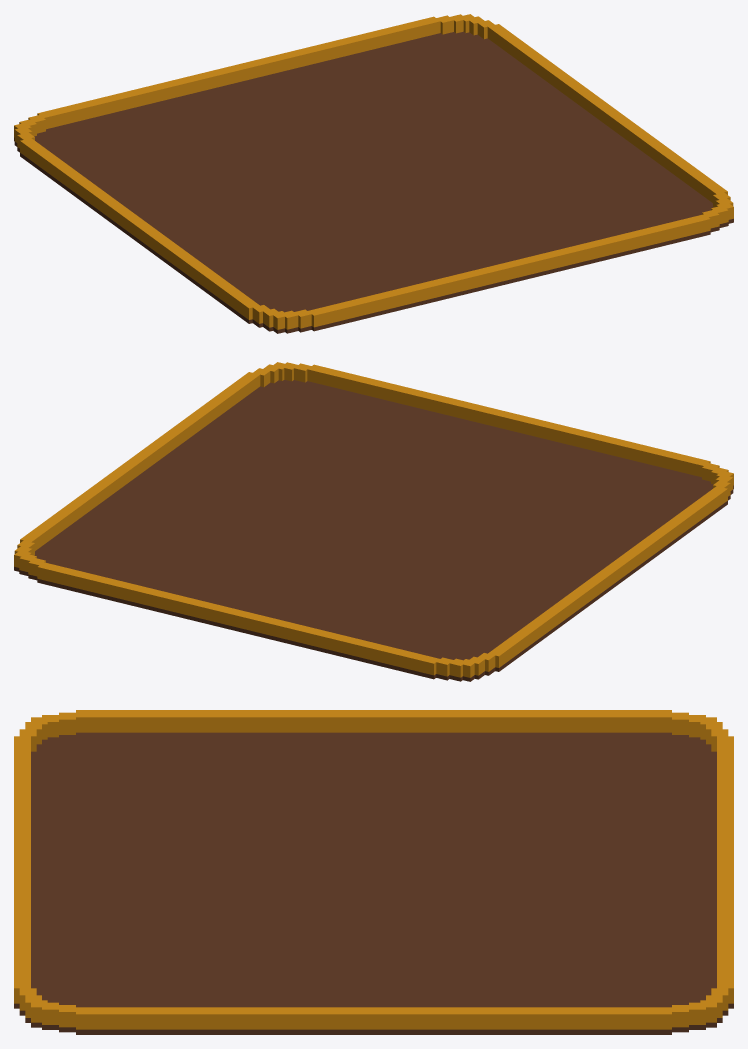
File: new_tile.obj
3 views of the same model, one above another, from view 1: azimuth 30°, elevation 25°; view 2: azimuth 150°, elevation 25°; view 3: azimuth 270°, elevation 25° (orthographic). The views are drawn at different scales.
Size of the model in its own units: 12.8 by 0.4 by 12.8.
Materials: 1 (1 with a texture image).
